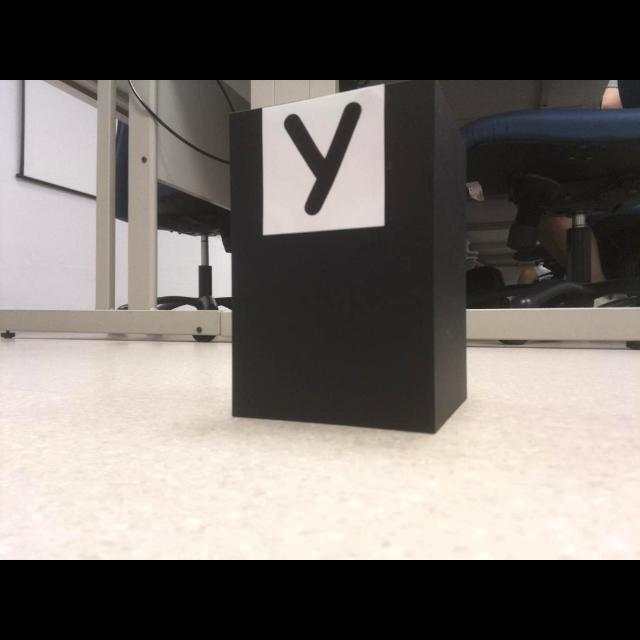Y: (285, 102, 361, 215)
